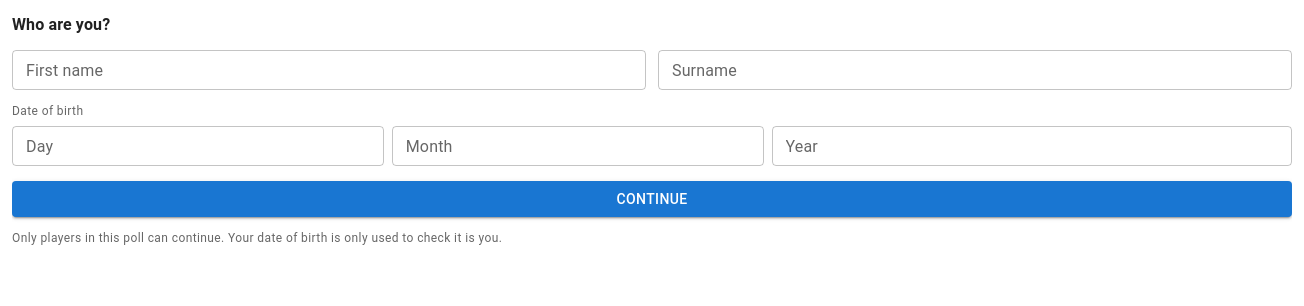
Test: IdentifyForm › validates empty names and date before submitting
The width and height of the screenshot is (1304, 306).
Click the button "Continue".
click(652, 199)  # box [12,180,1292,217]
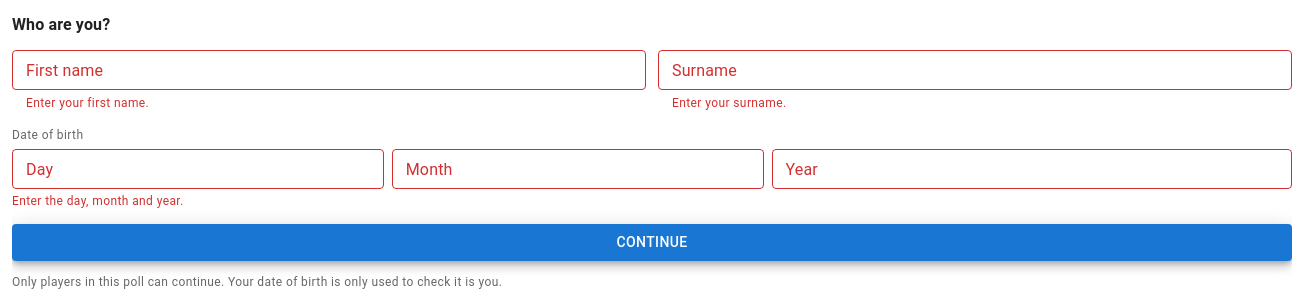
Expected: the text "Enter your first name." is shown, [26,96,149,110]
Expected: the text "Enter your surname." is shown, [672,96,787,110]
Expected: the message reads "Enter the day, month and year.", [12,194,184,208]
